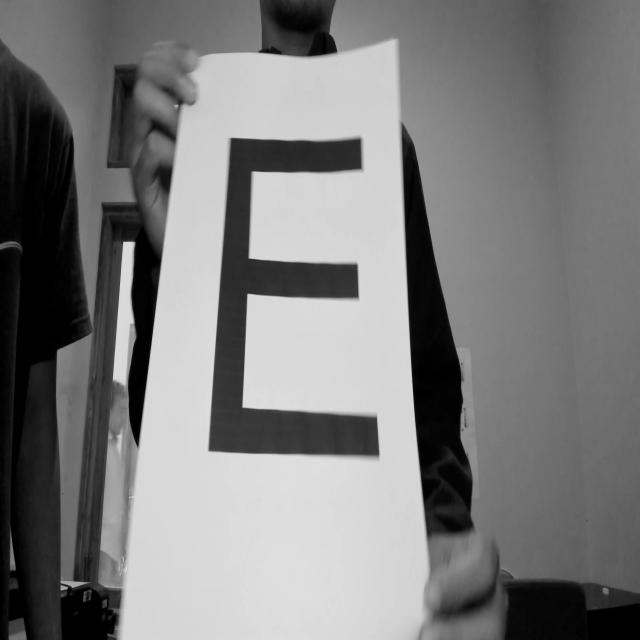e: (210, 116, 381, 503)
